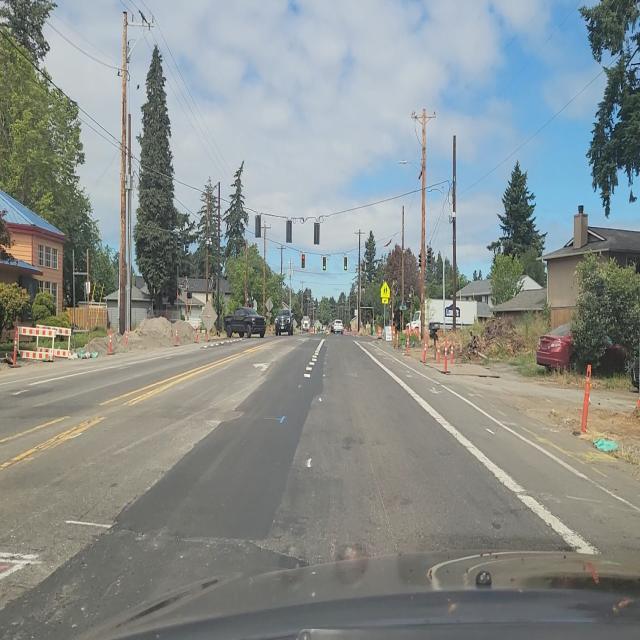car: (534, 322, 634, 377), (274, 309, 294, 336), (332, 320, 344, 334), (302, 317, 310, 332)
crosswalk-sign: (380, 283, 390, 303)
delineator: (11, 327, 19, 366), (443, 341, 449, 373), (421, 338, 428, 364), (108, 327, 113, 354), (436, 338, 441, 364), (405, 333, 410, 355), (449, 340, 454, 362), (395, 329, 399, 349), (125, 326, 129, 346), (195, 324, 199, 342), (175, 326, 178, 346), (206, 326, 209, 342), (308, 325, 311, 334)
